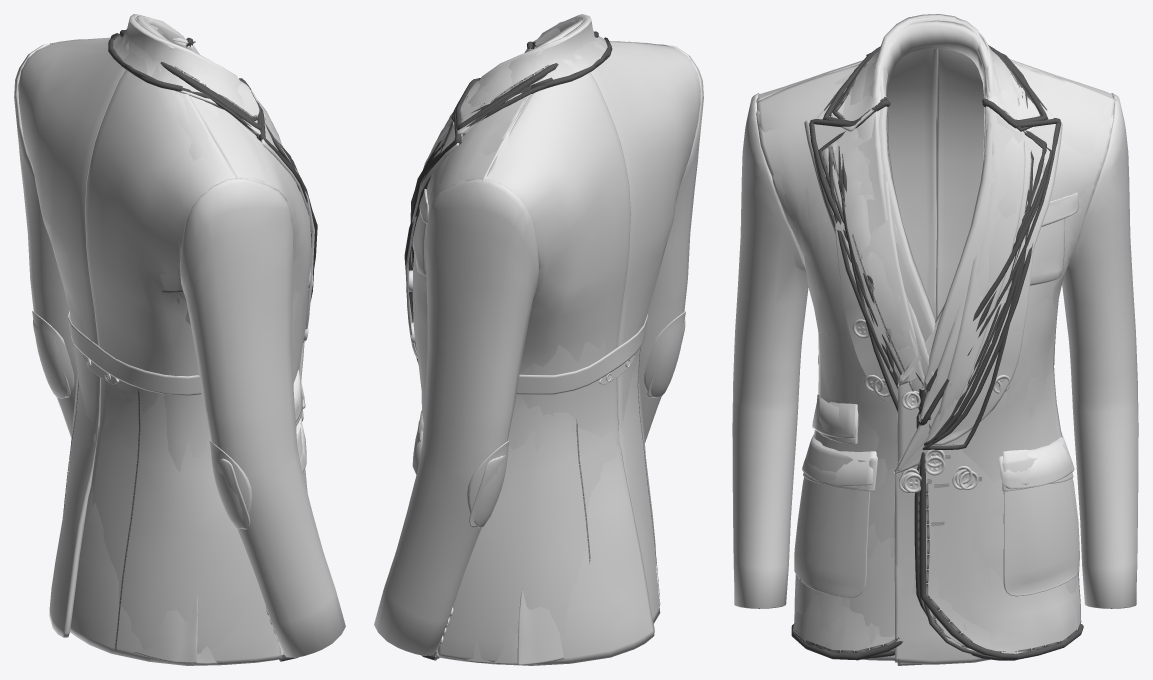
File: elbow_patch_rect.glb
The picture shows the model from 3 angles, left to right: view 1: azimuth 30°, elevation 25°; view 2: azimuth 150°, elevation 25°; view 3: azimuth 270°, elevation 25°; orthographic projection. The views are drawn at different scales.
Visible parts, largest first — view 1: SM_J_Back_2SideVent, SM_J_Sleaves, SM_J_Back_PlaintVent, SM_J_Back_CenterVent, SM_J_Elbow_Patch_Round, SM_J__FrontB1, SM__J_Accos_PatchHalfBelt, SM_J__FrontB3, SM_Lapel_B1_Shawl_2xl, SM_Laple_B2_Shawl_R, SM_Laple_B3_Peack_R._with_Coller, SM_J_Elbow_Patch_Rect (+4 smaller); view 2: SM_J_Back_2SideVent, SM_J_Sleaves, SM_J_Back_PlaintVent, SM_J_Back_CenterVent, SM_J_Elbow_Patch_Round, SM__J_Accos_PatchHalfBelt, SM_J__FrontB2, SM_Lapel_B1_Shawl_2xl, SM_J__FrontB1, SM_Laple_B2_Shawl_R, SM_J_FrontB2*1, SM_Laple_B3_Peack_R._with_Coller (+11 smaller); view 3: SM_J_Sleaves, SM_J__FrontB1, SM_J__FrontB2, SM_J_Back_CenterVent, SM_J_Pocket_Side_Pacth, SM_J_FrontB6*1, SM_J__FrontB3, SM_Lapel_B1_Shawl_2xl, SM_Laple_B1_Shawl_Strait, SM_J_FrontB2*1, SM_Lapel_B1_Notch_S.001, SM_J_FrontB4*2 (+39 smaller).
Boxes of the visible parts, left/top/right/bottom form: SM_J_Back_2SideVent: left=18, top=40, right=236, bottom=664; SM_J_Sleaves: left=14, top=43, right=345, bottom=657; SM_J_Back_PlaintVent: left=20, top=38, right=249, bottom=665; SM_J_Back_CenterVent: left=49, top=37, right=280, bottom=665; SM_J_Elbow_Patch_Round: left=32, top=311, right=252, bottom=529; SM_J__FrontB1: left=235, top=118, right=311, bottom=658; SM__J_Accos_PatchHalfBelt: left=68, top=310, right=201, bottom=395; SM_J__FrontB3: left=51, top=38, right=268, bottom=182; SM_Lapel_B1_Shawl_2xl: left=126, top=18, right=314, bottom=342; SM_Laple_B2_Shawl_R: left=113, top=14, right=244, bottom=106; SM_Laple_B3_Peack_R._with_Coller: left=120, top=30, right=262, bottom=130; SM_J_Elbow_Patch_Rect: left=33, top=320, right=250, bottom=529; SM_J_Back_2SideVent: left=438, top=47, right=700, bottom=665; SM_J_Sleaves: left=374, top=44, right=703, bottom=655; SM_J_Back_PlaintVent: left=437, top=44, right=696, bottom=665; SM_J_Back_CenterVent: left=437, top=41, right=669, bottom=665; SM_J_Elbow_Patch_Round: left=467, top=311, right=685, bottom=527; SM__J_Accos_PatchHalfBelt: left=516, top=314, right=647, bottom=394; SM_J__FrontB2: left=419, top=118, right=508, bottom=656; SM_Lapel_B1_Shawl_2xl: left=405, top=14, right=599, bottom=358; SM_J__FrontB1: left=413, top=95, right=529, bottom=657; SM_Laple_B2_Shawl_R: left=449, top=15, right=607, bottom=118; SM_J_FrontB2*1: left=413, top=131, right=506, bottom=655; SM_Laple_B3_Peack_R._with_Coller: left=455, top=31, right=598, bottom=129; SM_J_Sleaves: left=732, top=93, right=1138, bottom=608; SM_J__FrontB1: left=756, top=62, right=1113, bottom=648; SM_J__FrontB2: left=795, top=64, right=1115, bottom=653; SM_J_Back_CenterVent: left=756, top=48, right=1100, bottom=623; SM_J_Pocket_Side_Pacth: left=794, top=477, right=1079, bottom=597; SM_J_FrontB6*1: left=819, top=272, right=1078, bottom=664; SM_J__FrontB3: left=756, top=65, right=1116, bottom=651; SM_Lapel_B1_Shawl_2xl: left=834, top=14, right=1033, bottom=445; SM_Laple_B1_Shawl_Strait: left=867, top=20, right=1000, bottom=445; SM_J_FrontB2*1: left=756, top=79, right=1103, bottom=660; SM_Lapel_B1_Notch_S.001: left=861, top=50, right=991, bottom=416; SM_J_FrontB4*2: left=813, top=68, right=1115, bottom=665.
Size of the model in its own units: 1.7 by 4.23 by 2.67.
13 materials, 2 textured.
